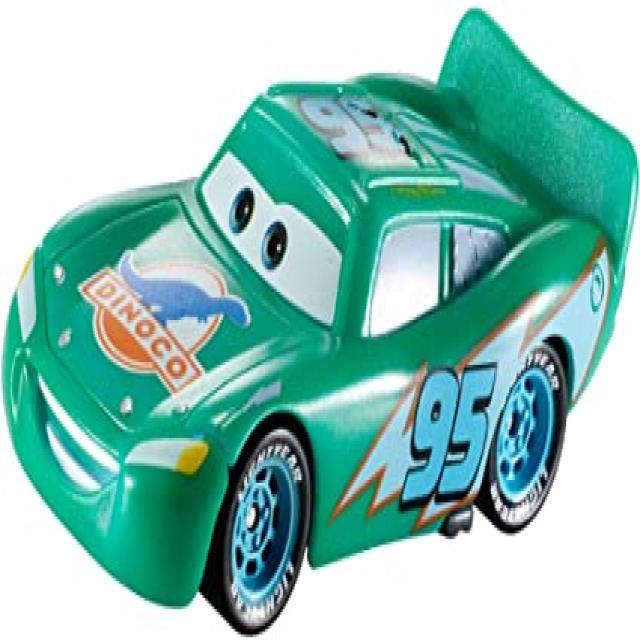Car: (0, 5, 638, 634)
